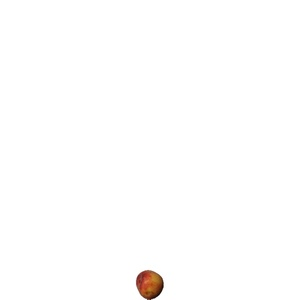pêssego: (137, 271, 164, 300)
